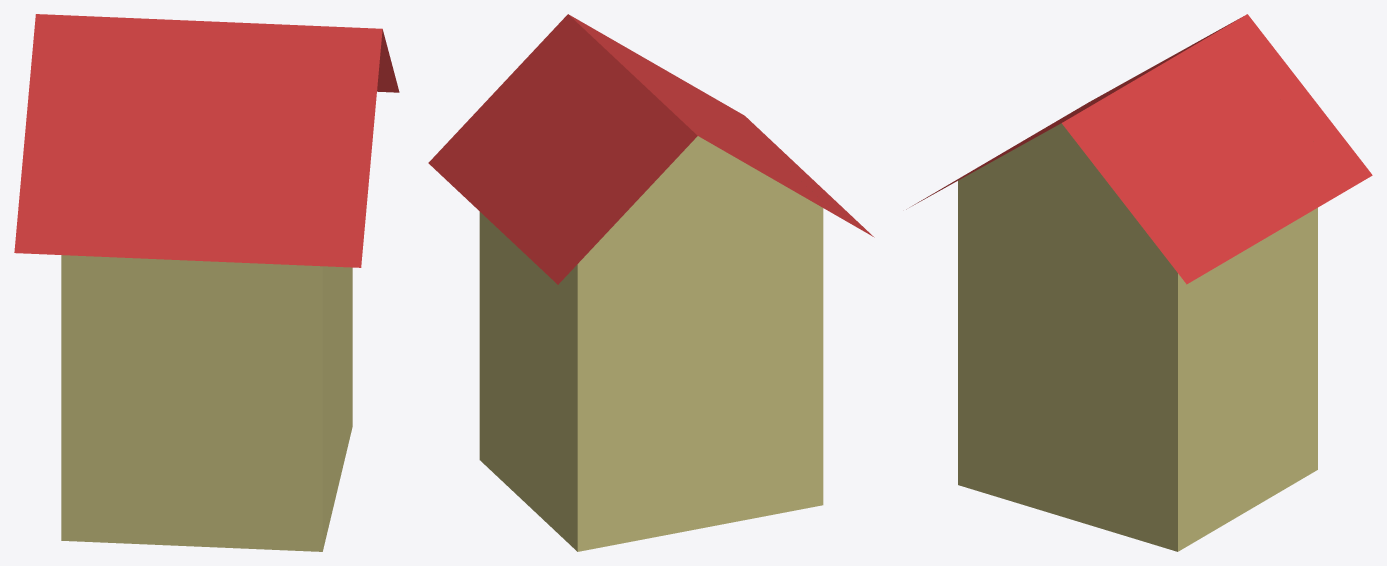
The picture shows the model from 3 angles, left to right: view 1: azimuth 30°, elevation 25°; view 2: azimuth 150°, elevation 25°; view 3: azimuth 270°, elevation 25°; orthographic projection. The views are drawn at different scales.
Bounding box in the file's own units: 8.83 × 8.97 × 8.72.
